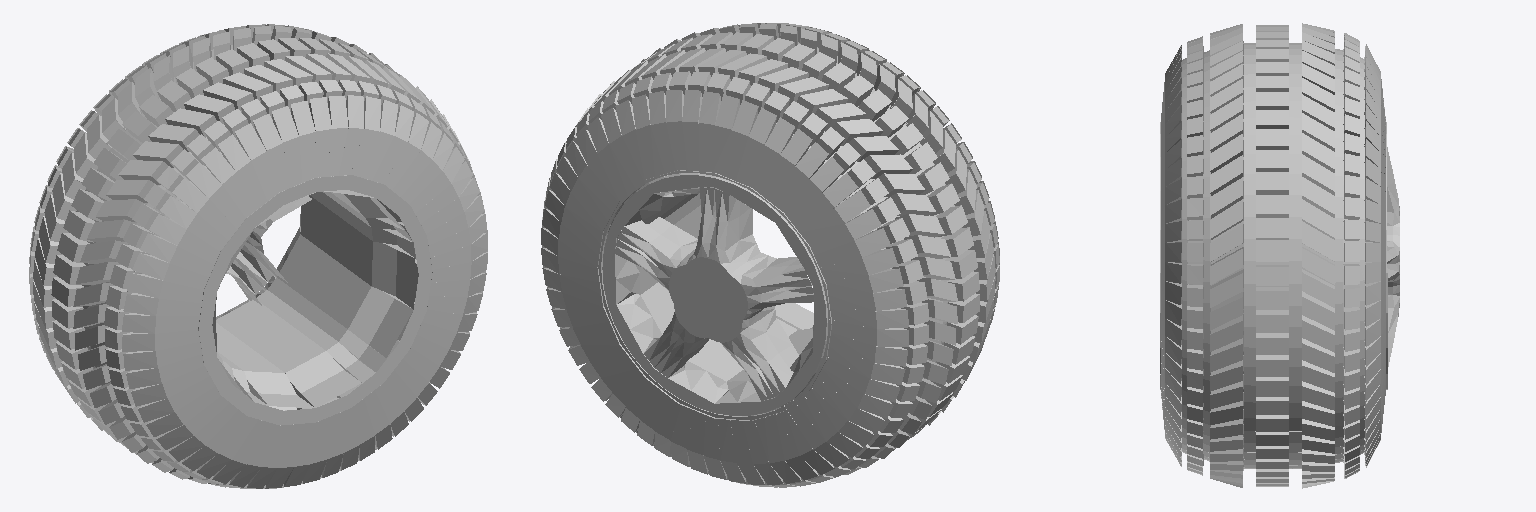
The model's file is Wheel.obj.
The picture shows the model from 3 angles: view 1: azimuth 30°, elevation 25°; view 2: azimuth 150°, elevation 25°; view 3: azimuth 270°, elevation 25°; orthographic projection.
Visible parts, largest first — view 1: polySurface2; view 2: polySurface2; view 3: polySurface2.
Part boxes in pixels (x1,y1,x2,y2): polySurface2: (29, 24, 487, 488); polySurface2: (541, 23, 999, 487); polySurface2: (1160, 23, 1399, 488).
Bounding box in the file's own units: 14.05 × 14.05 × 7.25.